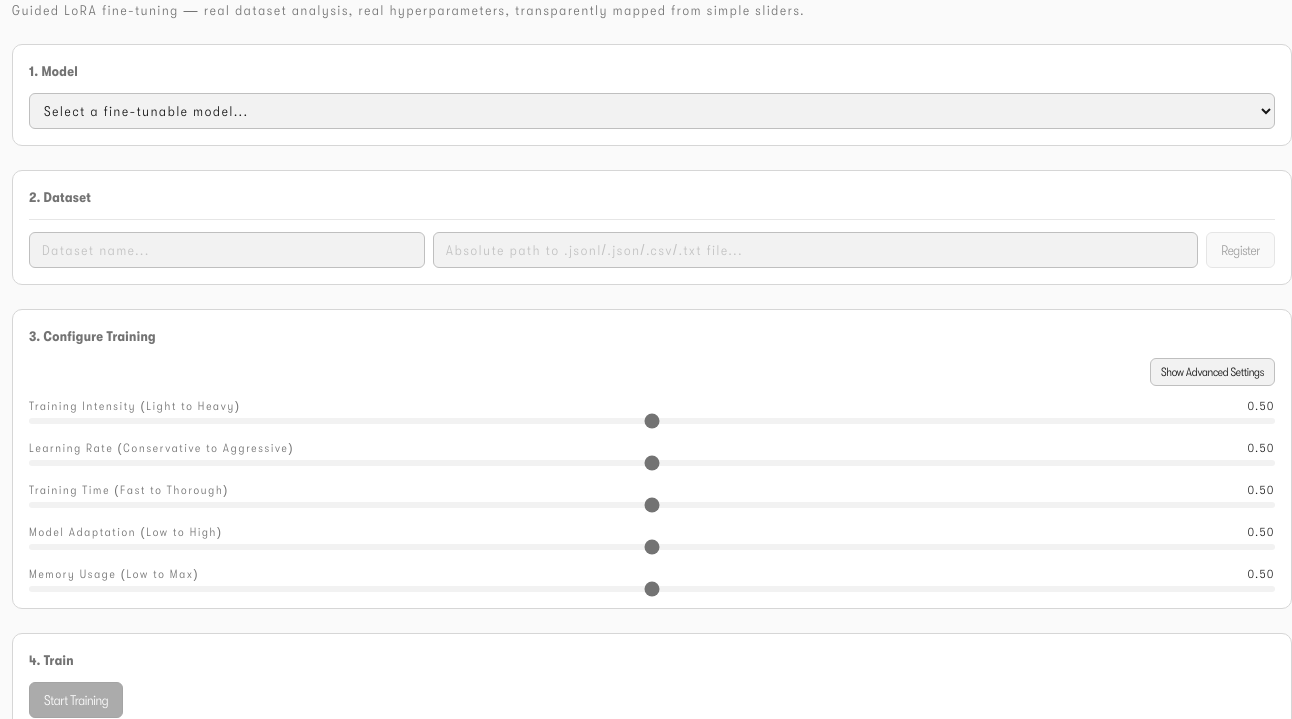
Test: FineTune page › reveals the real resolved hyperparameters under Show Advanced Settings, not a static mockup
This screenshot has width=1292, height=719.
Click the button "Show Advanced Settings" at (1212, 372), box [1150,358,1275,386]
(page scrolled)
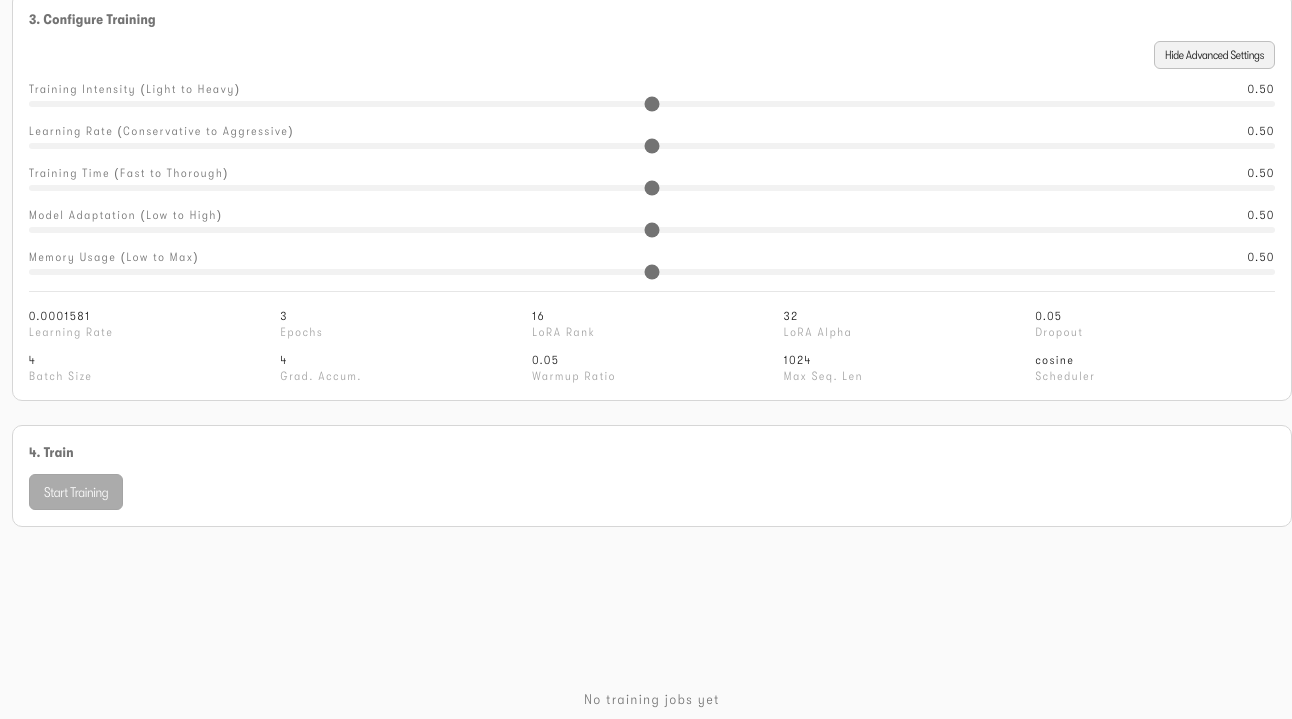
Now the text "16" is shown, box [532,309,545,323]
Now the text "cosine" is shown, box [1035,353,1074,367]
